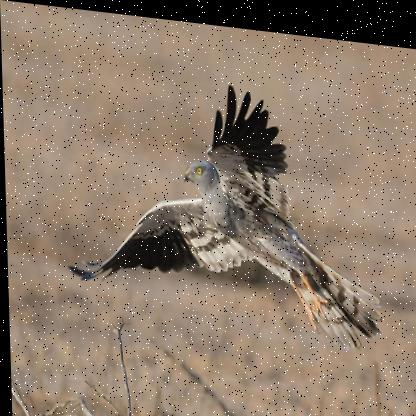Burung: (62, 61, 384, 346)
